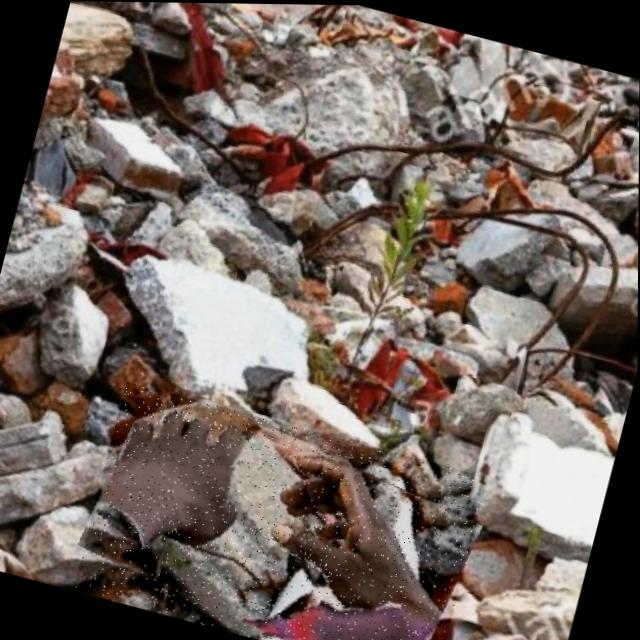Person in Rubble: (73, 380, 489, 640)
